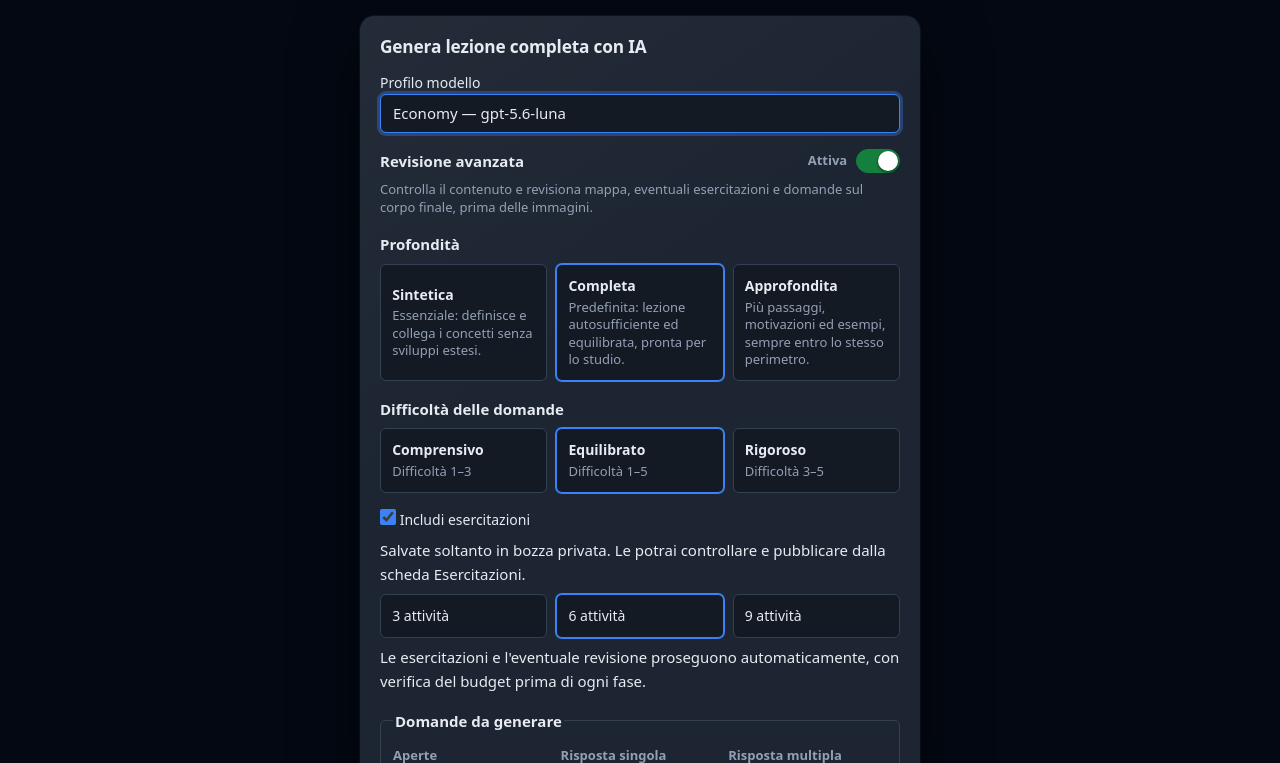
retains content and review through late content clearing and completion (review retry false)
The image size is (1280, 763).
Step 1. Click the checkbox labelled "Includi esercitazioni" → (388,517), box [380, 509, 396, 525]
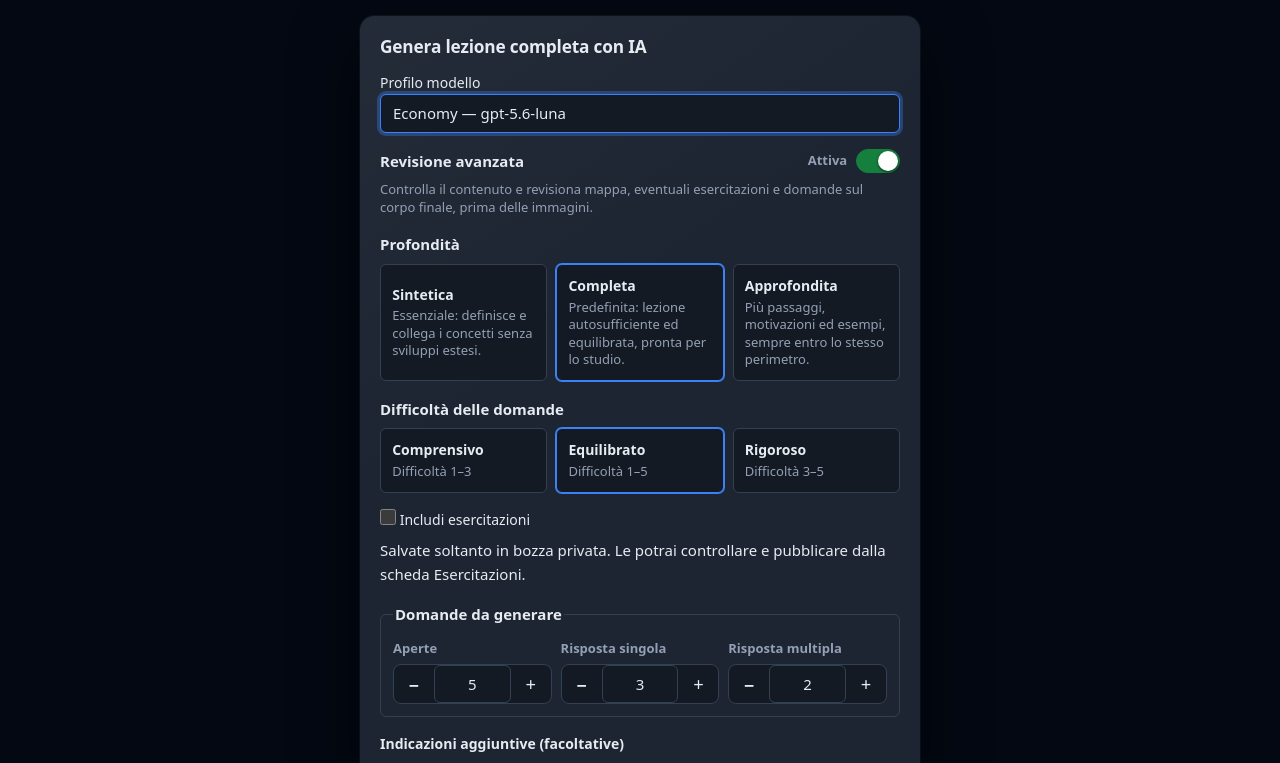
Step 2. Replace the text in the field named "Aperte" with "1" → (472,684), box [434, 665, 511, 703]
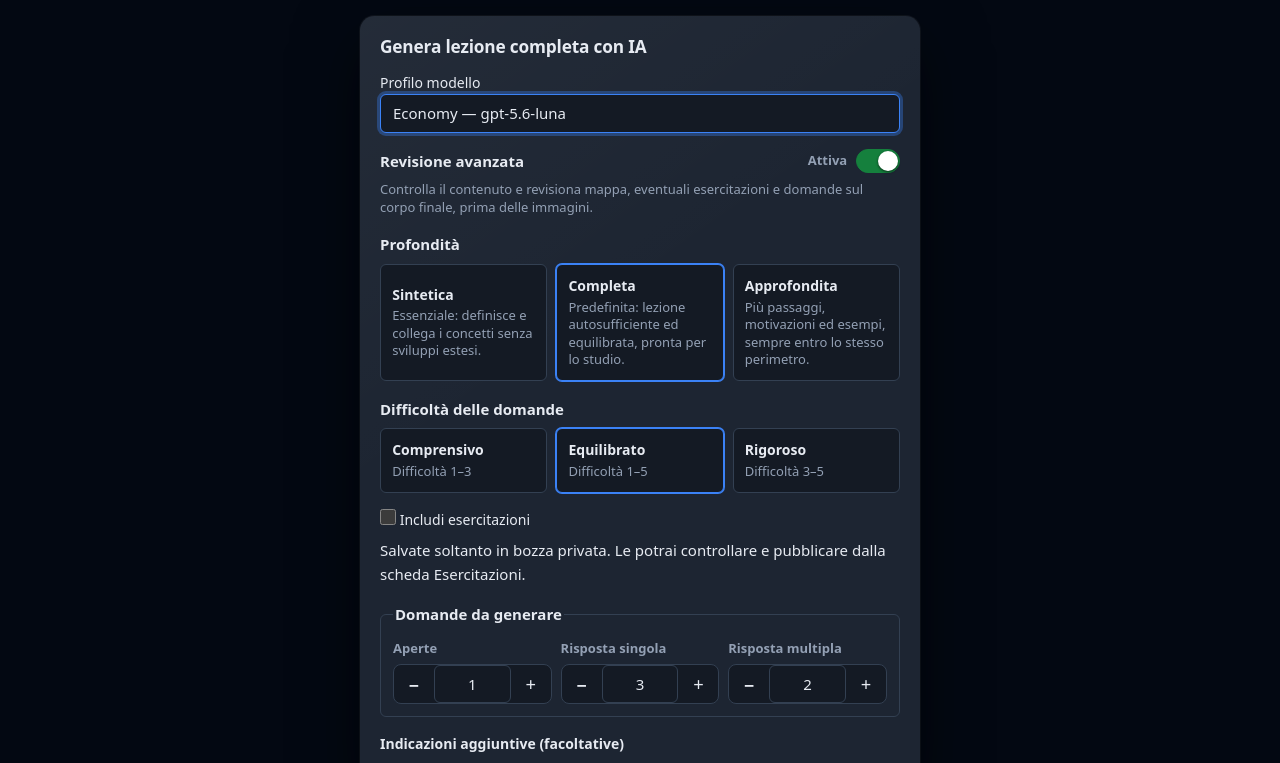
Step 3. Replace the text in the field named "Risposta singola" with "0" → (640,684), box [602, 665, 678, 703]
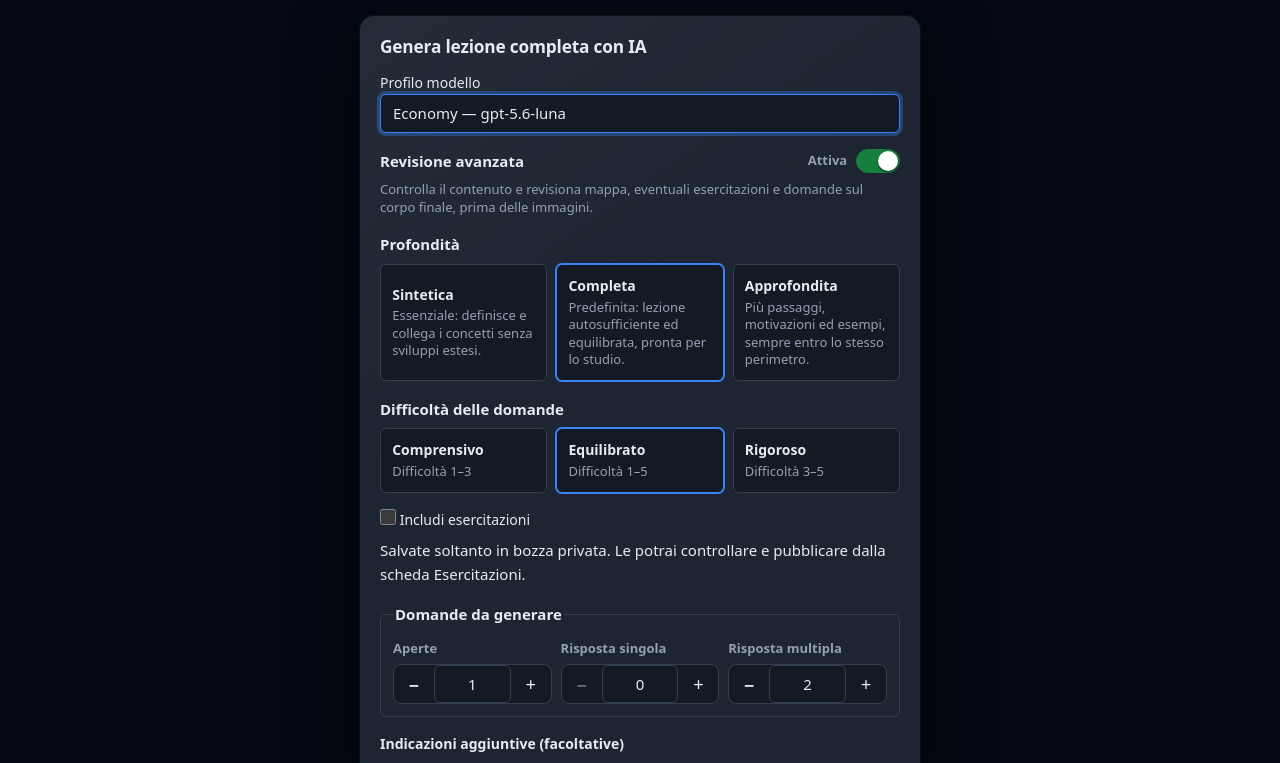
Step 4. Replace the text in the field named "Risposta multipla" with "0" → (808,684), box [769, 665, 846, 703]
(page scrolled)
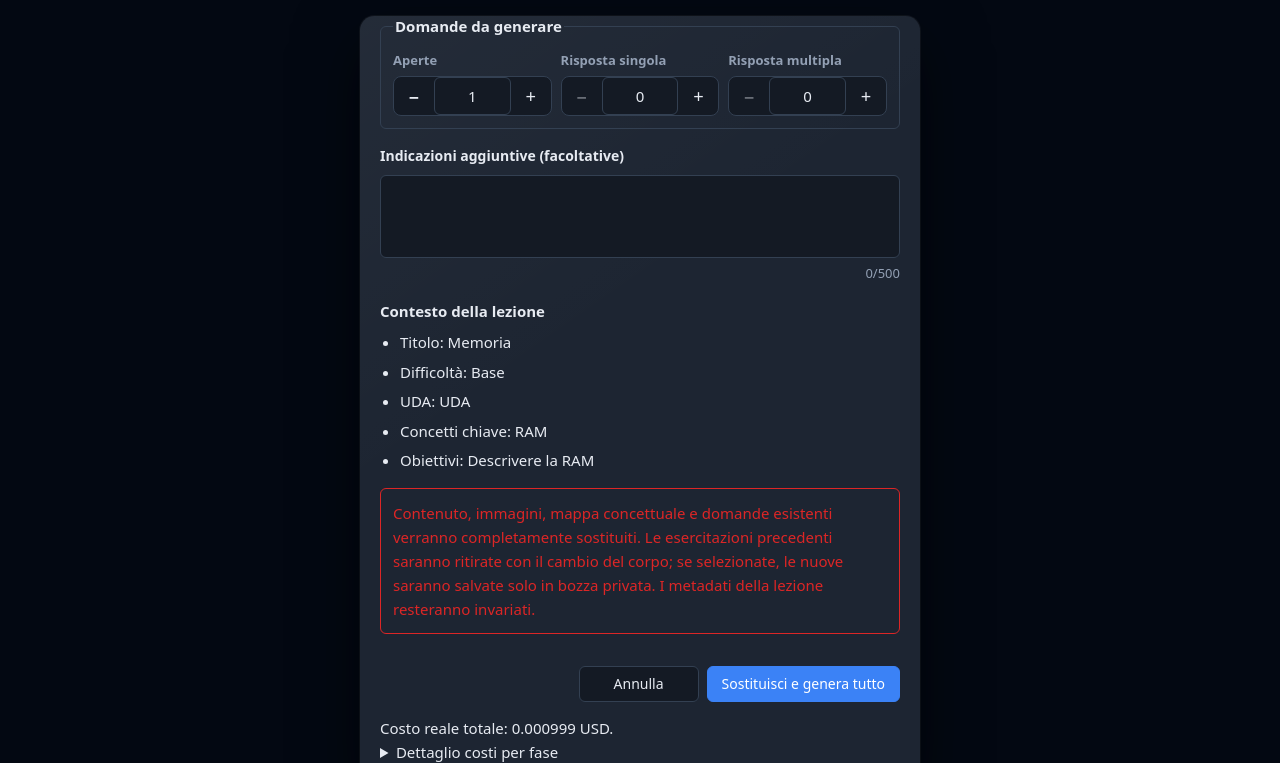
Step 5. Click the button "Sostituisci e genera tutto" → (803,684), box [707, 666, 900, 702]
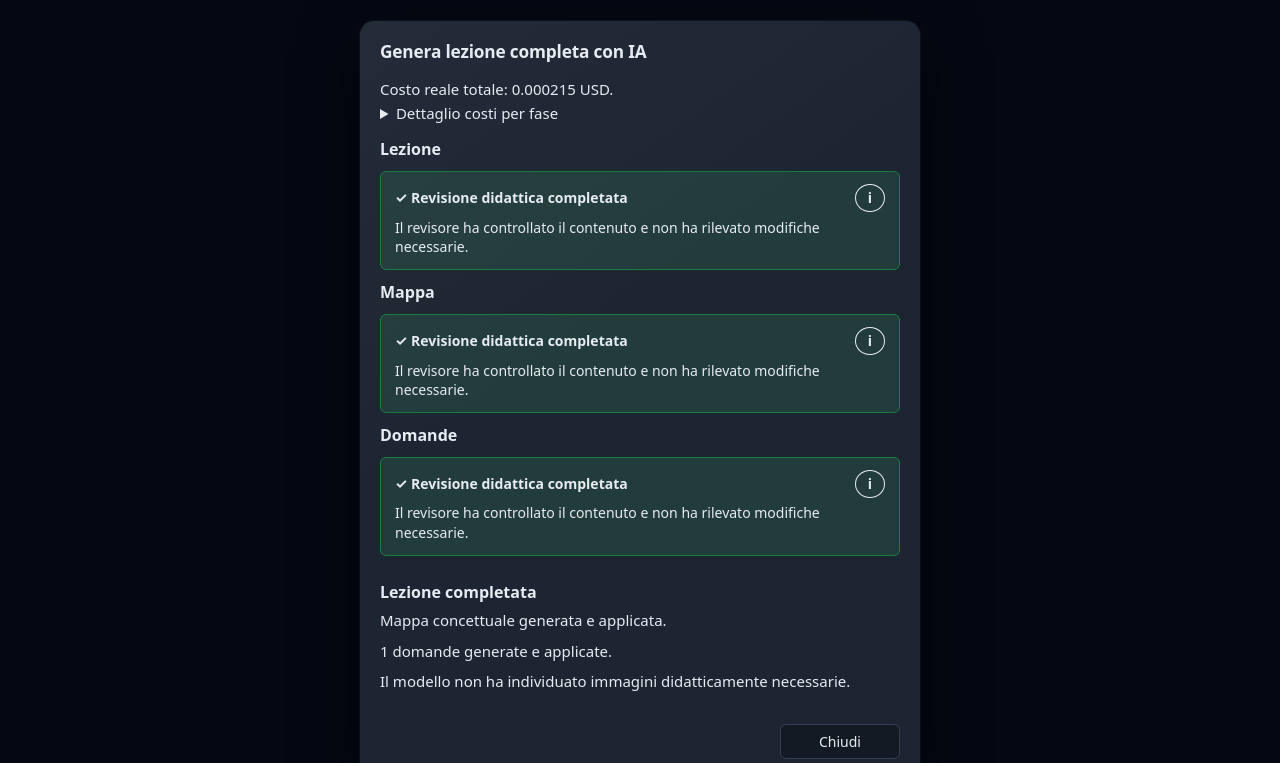
Expected: the heading "Lezione completata" is shown, [380, 581, 537, 603]
